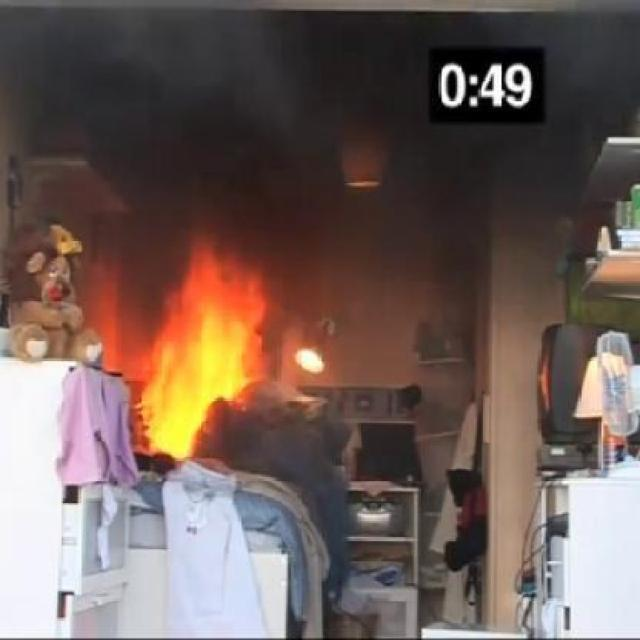fire: (0, 0, 325, 180), (509, 0, 640, 134)
smoke: (134, 234, 262, 463)
